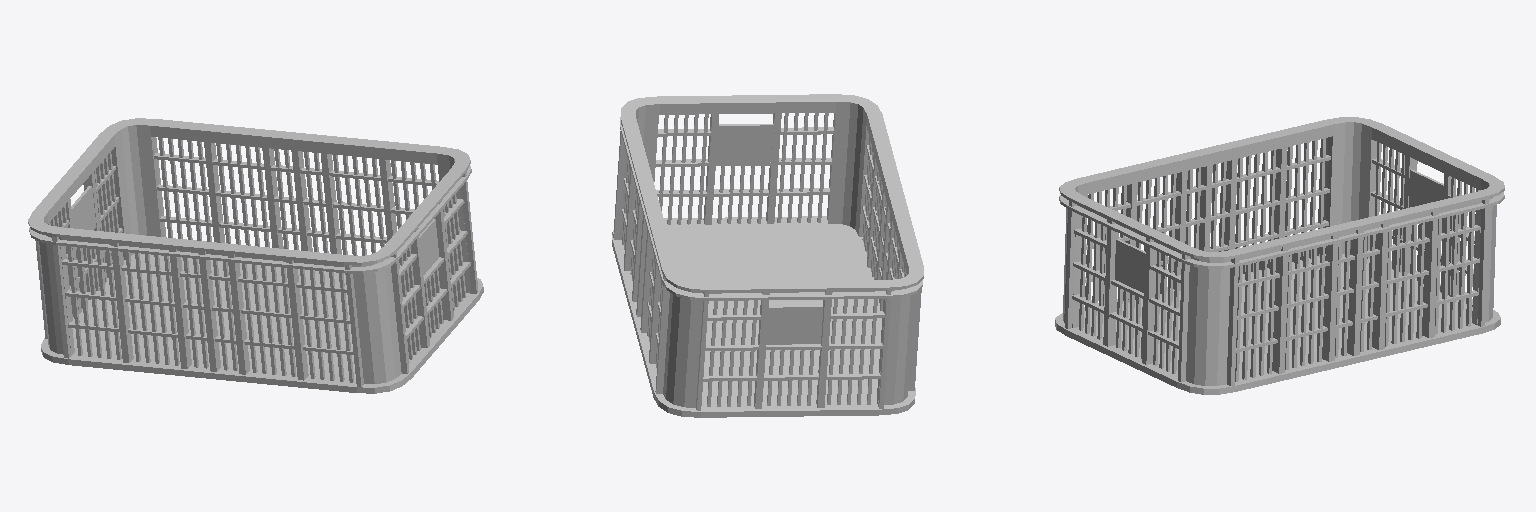
Rendered from 14029_Plastic_Fruit_Crate_v1_L1.obj.
3 renders of one model, left to right at view 1: azimuth 30°, elevation 25°; view 2: azimuth 150°, elevation 25°; view 3: azimuth 270°, elevation 25°, orthographic.
Parts seen in each view (by area): view 1: 14029_plastic_fruit_crate_SG; view 2: 14029_plastic_fruit_crate_SG; view 3: 14029_plastic_fruit_crate_SG.
Part boxes in pixels (x1,y1,x2,y2): 14029_plastic_fruit_crate_SG: (28,118,483,393); 14029_plastic_fruit_crate_SG: (612,94,923,417); 14029_plastic_fruit_crate_SG: (1055,117,1504,394).
Size of the model in its own units: 6.44 by 2.78 by 6.69.